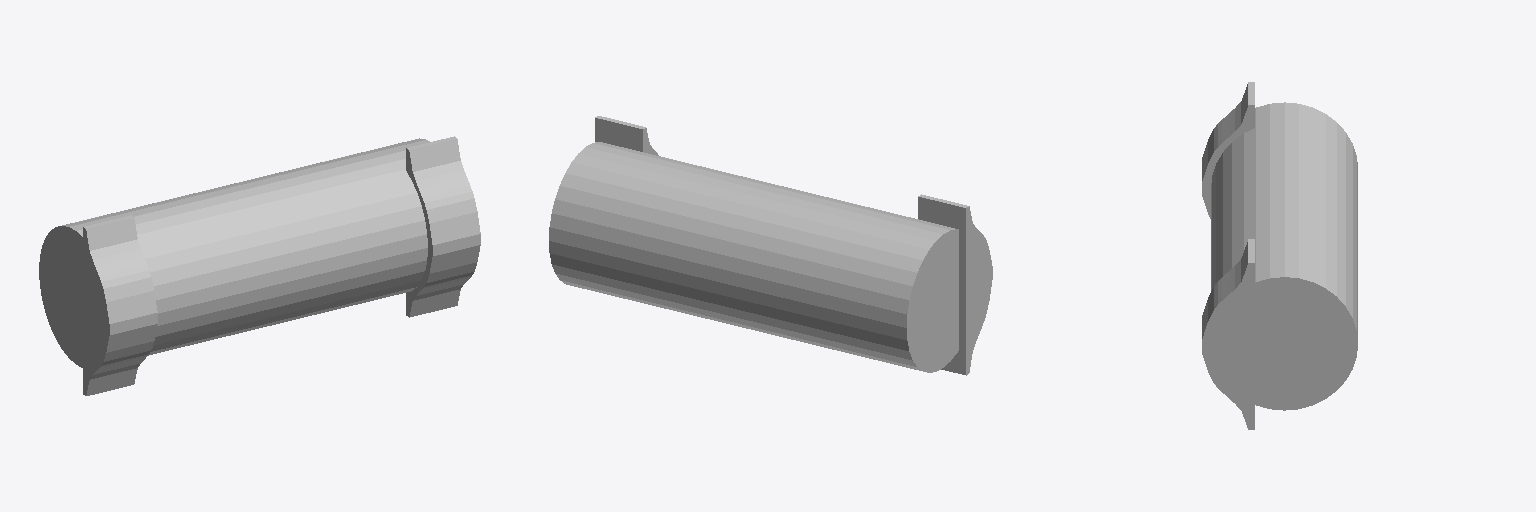
File: camera_hull_phy.obj
3 views of the same model, side by side, from view 1: azimuth 30°, elevation 25°; view 2: azimuth 150°, elevation 25°; view 3: azimuth 270°, elevation 25° (orthographic).
Parts seen in each view (by area): view 1: Camera_hull_phy; view 2: Camera_hull_phy; view 3: Camera_hull_phy.
Part boxes in pixels (left/top/right/bottom): Camera_hull_phy: left=39, top=136, right=480, bottom=395; Camera_hull_phy: left=549, top=116, right=992, bottom=375; Camera_hull_phy: left=1202, top=82, right=1357, bottom=429.
Bounding box in the file's own units: 0.3357 × 0.1446 × 0.1226.